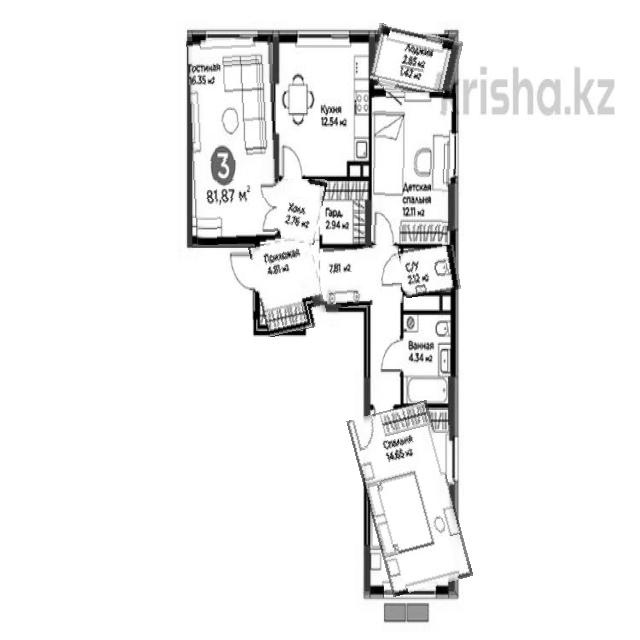balcony: (369, 28, 461, 98)
bathroom: (401, 310, 457, 410), (400, 244, 460, 296)
hallway: (253, 236, 324, 335), (324, 244, 402, 308), (271, 172, 324, 243)
kitchen: (276, 37, 370, 179)
living_room: (357, 404, 462, 594), (188, 37, 278, 244), (372, 92, 455, 245)
